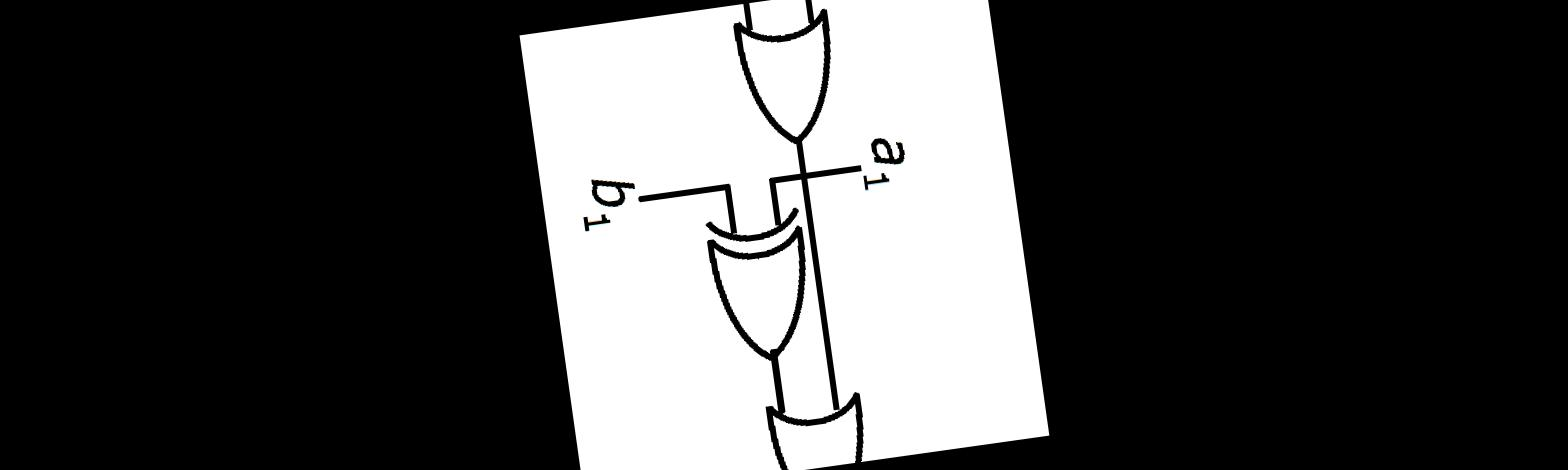or: (715, 0, 858, 168), (751, 373, 879, 470)
xor: (687, 194, 829, 370)
